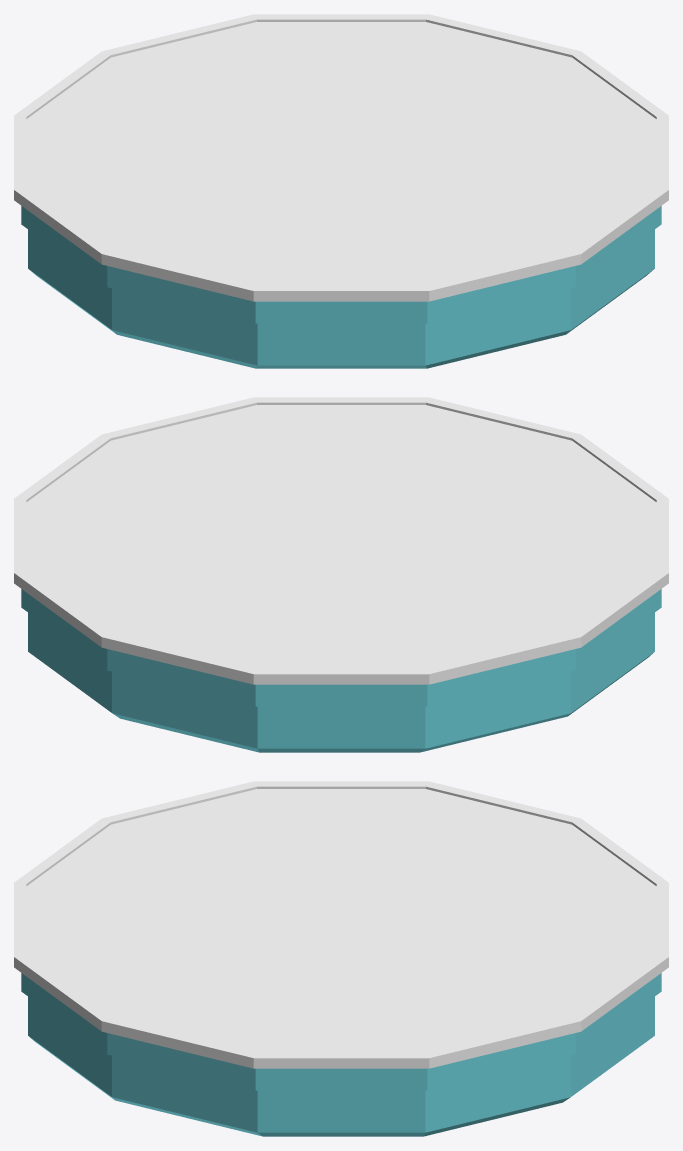
Rendered from SM_Sample_Bowl_With_Sample.glb.
3 views of the same model, one above another, from view 1: azimuth 30°, elevation 25°; view 2: azimuth 150°, elevation 25°; view 3: azimuth 270°, elevation 25° (orthographic).
Parts seen in each view (by area): view 1: SM_Sample_Bowl_Lid_With_Sample, SM_Sample_Bowl_With_Sample; view 2: SM_Sample_Bowl_Lid_With_Sample, SM_Sample_Bowl_With_Sample; view 3: SM_Sample_Bowl_Lid_With_Sample, SM_Sample_Bowl_With_Sample.
Boxes of the visible parts, x1=… form: SM_Sample_Bowl_Lid_With_Sample: x1=14, y1=14, x2=668, y2=301; SM_Sample_Bowl_With_Sample: x1=21, y1=206, x2=661, y2=368; SM_Sample_Bowl_Lid_With_Sample: x1=14, y1=397, x2=668, y2=684; SM_Sample_Bowl_With_Sample: x1=21, y1=589, x2=661, y2=752; SM_Sample_Bowl_Lid_With_Sample: x1=14, y1=781, x2=668, y2=1068; SM_Sample_Bowl_With_Sample: x1=21, y1=973, x2=661, y2=1136.
Size of the model in its own units: 0.1009 by 0.0148 by 0.1009.
